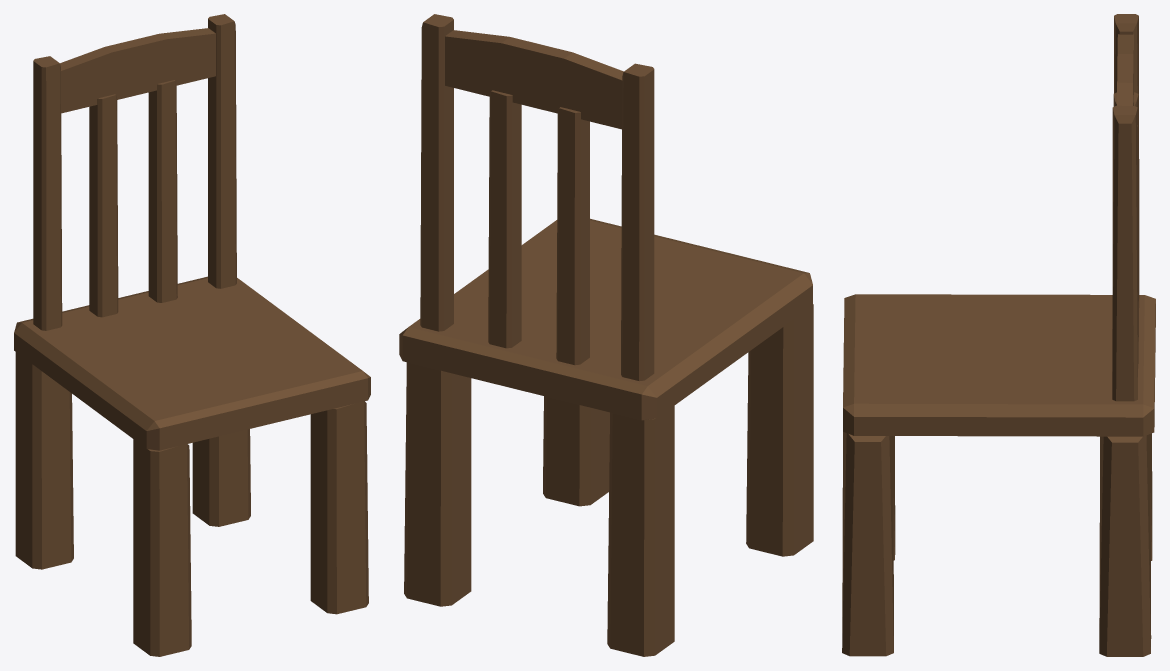
Rendered from Silla.fbx.
The picture shows the model from 3 angles, left to right: view 1: azimuth 30°, elevation 25°; view 2: azimuth 150°, elevation 25°; view 3: azimuth 270°, elevation 25°; orthographic projection. The views are drawn at different scales.
Parts seen in each view (by area): view 1: Silla; view 2: Silla; view 3: Silla.
Part boxes in pixels (x1=…): Silla: x1=14, y1=14, x2=370, y2=656; Silla: x1=399, y1=14, x2=813, y2=656; Silla: x1=842, y1=14, x2=1155, y2=656.
Size of the model in its own units: 107 by 225 by 119.
